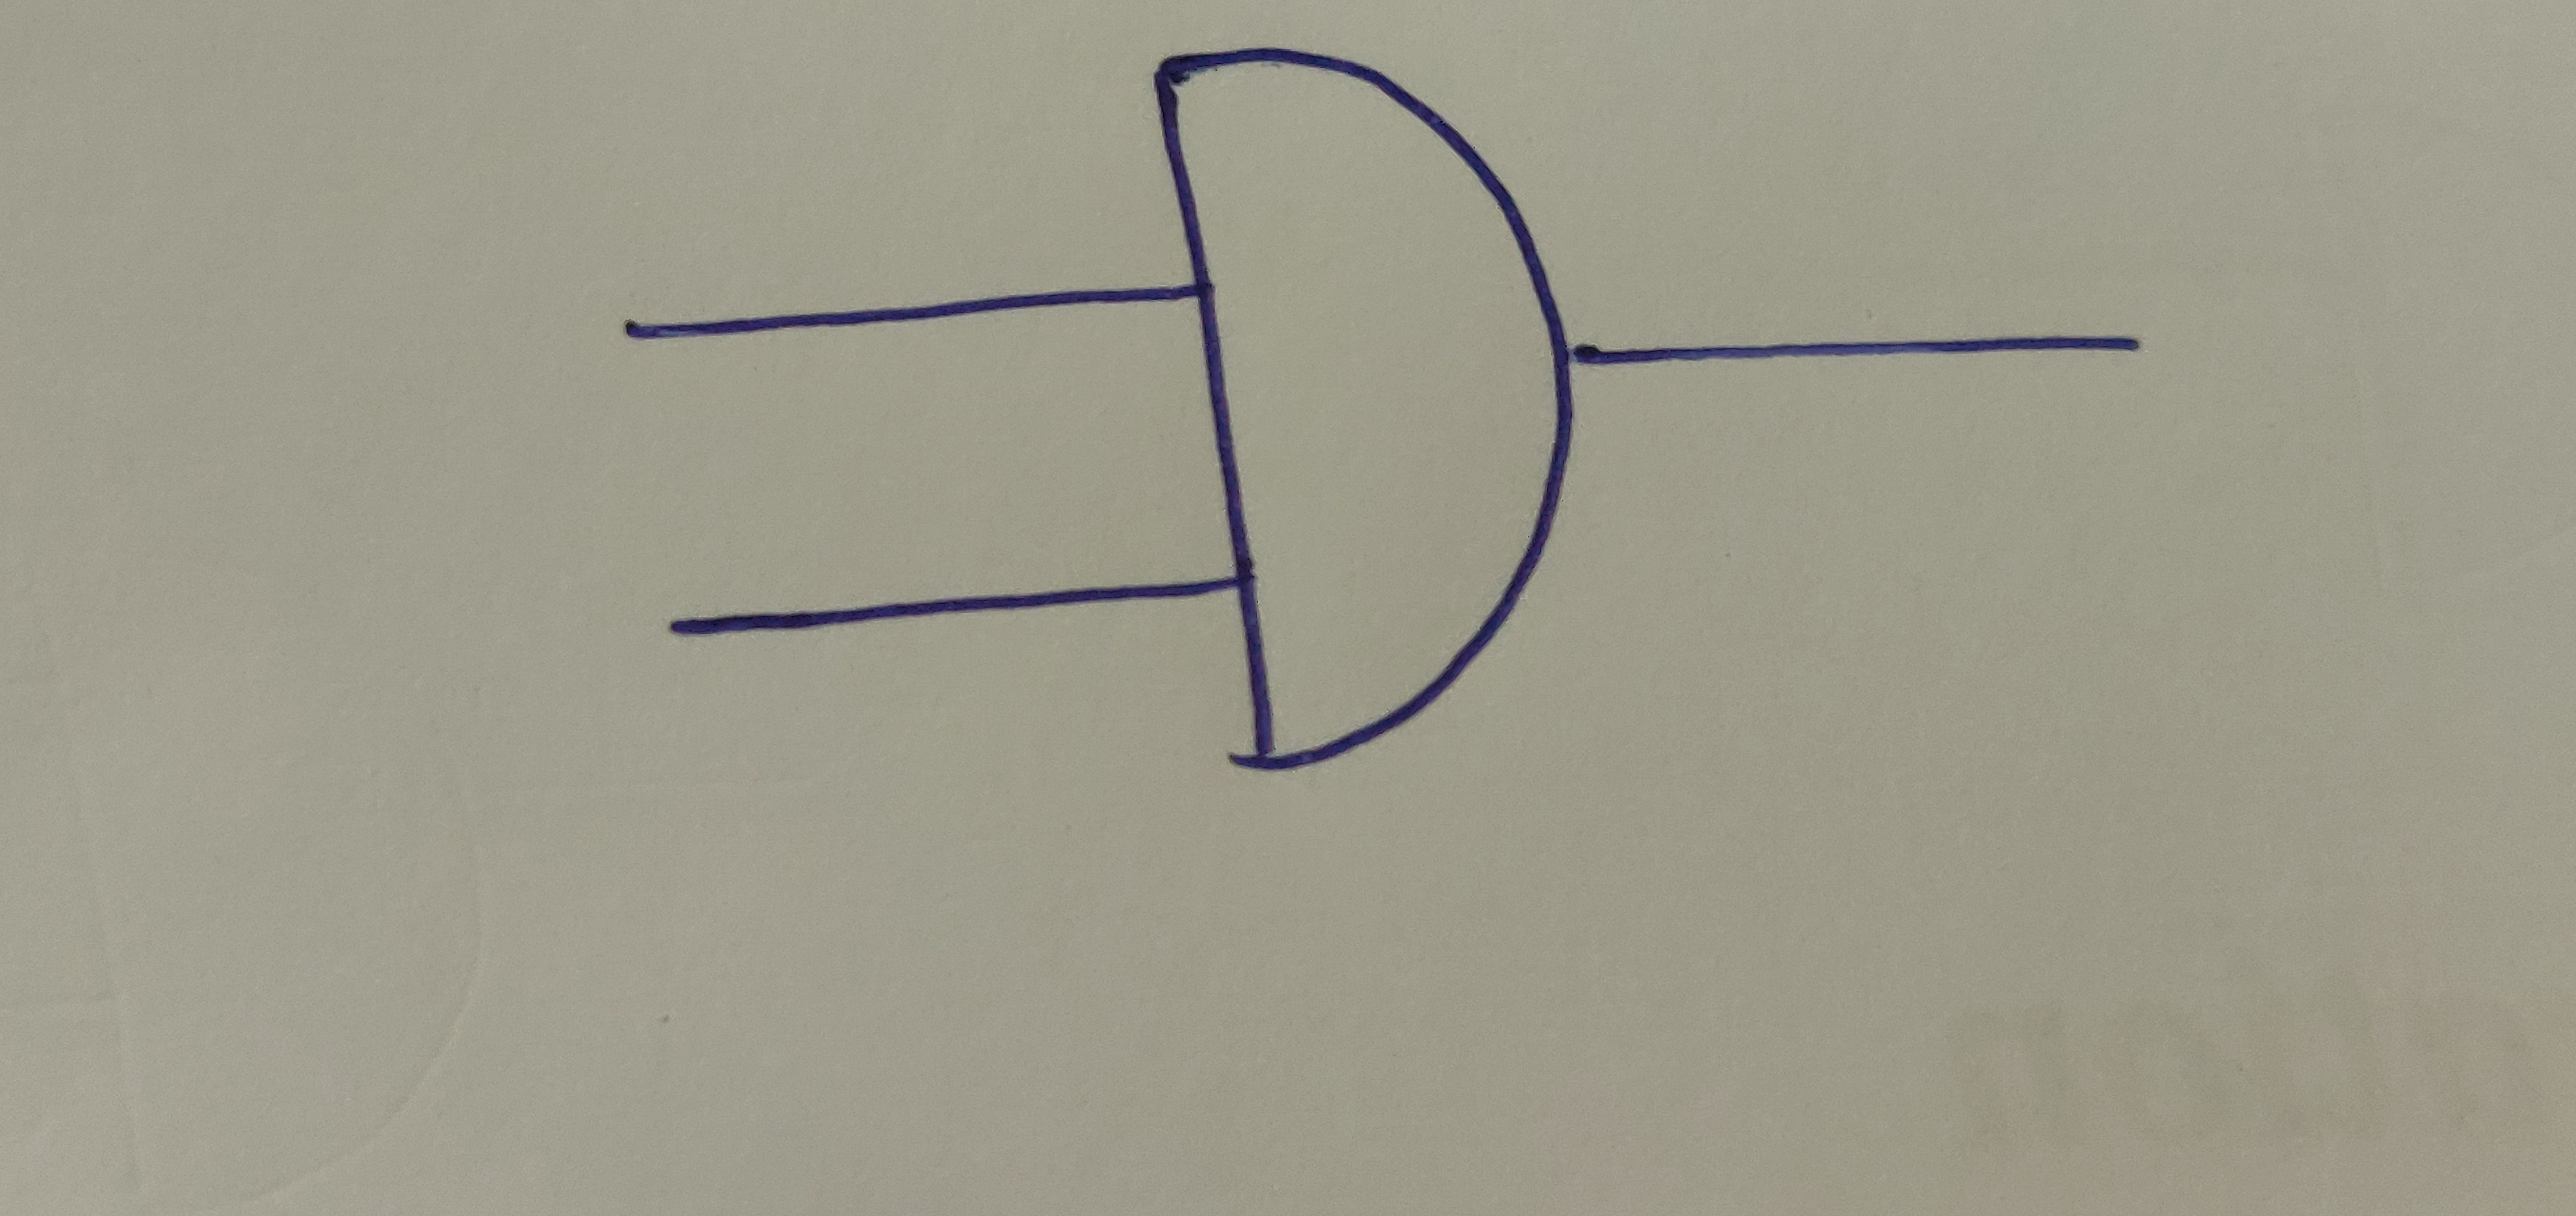and: (1147, 44, 1575, 781)
